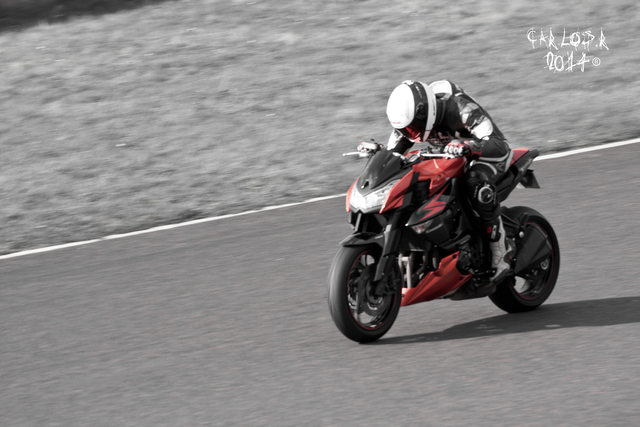helmet: (376, 83, 441, 134)
